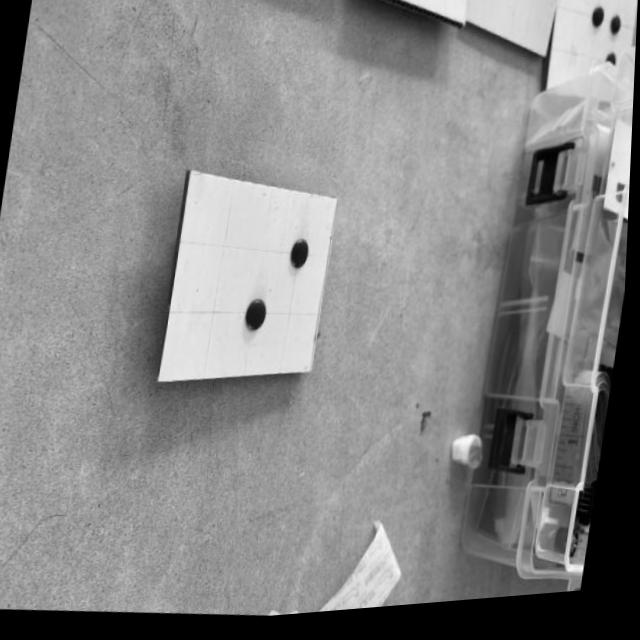braiile: (162, 176, 339, 382), (464, 0, 558, 64)
